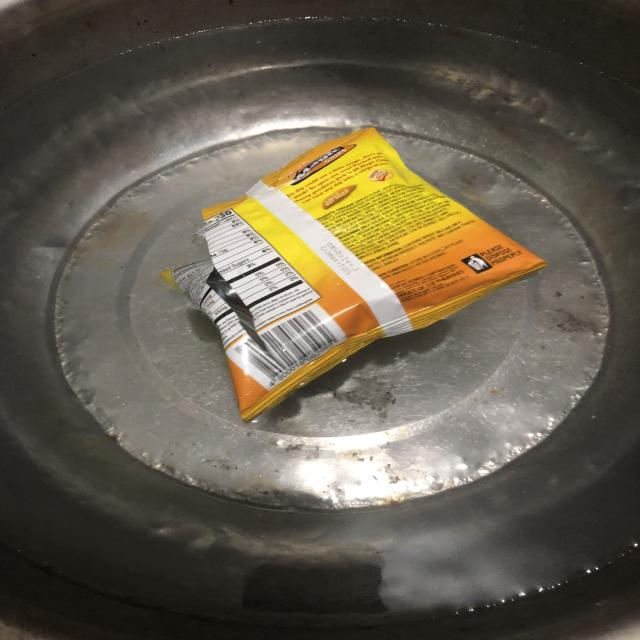Plastic Wrapper: (180, 119, 552, 406)
